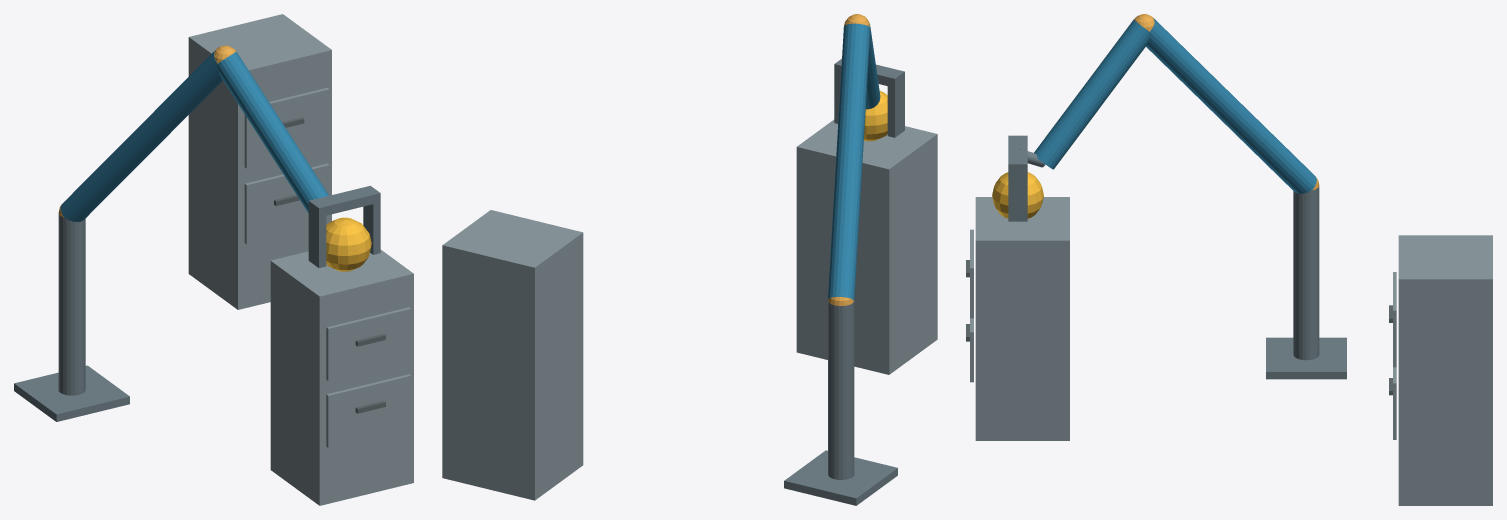
3 views of the same model, side by side, from view 1: azimuth 30°, elevation 25°; view 2: azimuth 150°, elevation 25°; view 3: azimuth 270°, elevation 25° (orthographic). The views are drawn at different scales.
Parts seen in each view (by area): view 1: cabinet_1 body, cabinet_2 body, moving link 1, fixed post, moving link 2, cabinet_1 drawer front.001, cabinet_1 drawer front, cabinet_2 drawer front, cabinet_2 drawer front.001, pedestal, ball ball_1, gripper bridge (+2 smaller); view 2: cabinet_2 body, cabinet_1 body, moving link 1, fixed post, pedestal, gripper finger -1, ball ball_1, moving link 2, gripper bridge; view 3: cabinet_2 body, cabinet_1 body, moving link 1, fixed post, moving link 2, pedestal, ball ball_1, gripper finger 1, gripper bridge.
Part boxes in pixels (x1=…): cabinet_1 body: x1=270, y1=249, x2=413, y2=505; cabinet_2 body: x1=188, y1=14, x2=331, y2=309; moving link 1: x1=60, y1=51, x2=222, y2=221; fixed post: x1=58, y1=214, x2=85, y2=395; moving link 2: x1=217, y1=52, x2=328, y2=212; cabinet_1 drawer front.001: x1=326, y1=307, x2=411, y2=381; cabinet_1 drawer front: x1=326, y1=374, x2=411, y2=447; cabinet_2 drawer front: x1=244, y1=163, x2=329, y2=244; cabinet_2 drawer front.001: x1=244, y1=87, x2=329, y2=168; pedestal: x1=14, y1=365, x2=129, y2=421; ball ball_1: x1=326, y1=217, x2=371, y2=271; gripper bridge: x1=308, y1=185, x2=380, y2=217; cabinet_2 body: x1=442, y1=210, x2=583, y2=500; cabinet_1 body: x1=796, y1=119, x2=937, y2=374; moving link 1: x1=828, y1=23, x2=870, y2=300; fixed post: x1=828, y1=301, x2=854, y2=479; pedestal: x1=784, y1=450, x2=897, y2=505; gripper finger -1: x1=887, y1=81, x2=904, y2=137; ball ball_1: x1=864, y1=91, x2=887, y2=141; moving link 2: x1=865, y1=23, x2=880, y2=109; gripper bridge: x1=834, y1=58, x2=904, y2=87; cabinet_2 body: x1=1398, y1=235, x2=1492, y2=505; cabinet_1 body: x1=975, y1=197, x2=1069, y2=440; moving link 1: x1=1146, y1=18, x2=1316, y2=193; fixed post: x1=1293, y1=186, x2=1319, y2=360; moving link 2: x1=1034, y1=19, x2=1149, y2=169; pedestal: x1=1266, y1=337, x2=1346, y2=379; ball ball_1: x1=992, y1=172, x2=1043, y2=218; gripper finger 1: x1=1008, y1=173, x2=1027, y2=221; gripper bridge: x1=1008, y1=135, x2=1027, y2=173.
Size of the model in its own units: 1.17 by 1.29 by 1.62.
